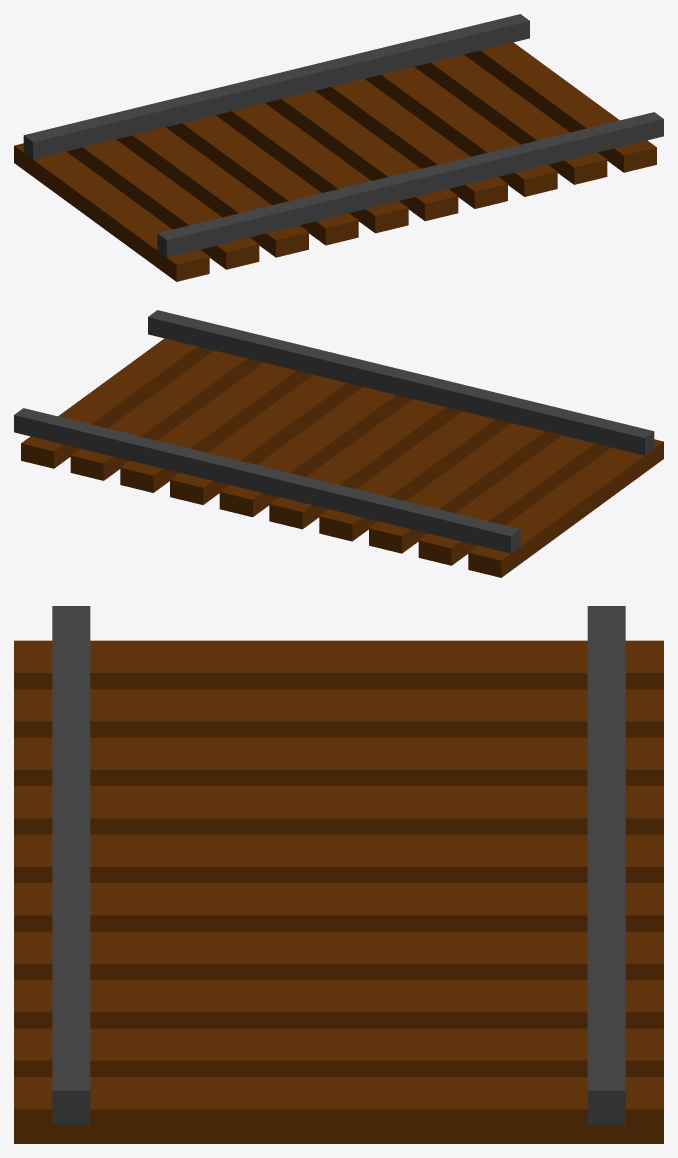
Rendered from obj_tracks2.fbx.
3 views of the same model, one above another, from view 1: azimuth 30°, elevation 25°; view 2: azimuth 150°, elevation 25°; view 3: azimuth 270°, elevation 25° (orthographic). The views are drawn at different scales.
Parts seen in each view (by area): view 1: obj_tracks2; view 2: obj_tracks2; view 3: obj_tracks2.
Part boxes in pixels (box(x1,y1,x2,y2)): obj_tracks2: box(14, 14, 663, 281); obj_tracks2: box(14, 310, 663, 577); obj_tracks2: box(14, 606, 663, 1143).
Bounding box in the file's own units: 3 × 1.7 × 0.2.
Materials: 1 (1 with a texture image).
